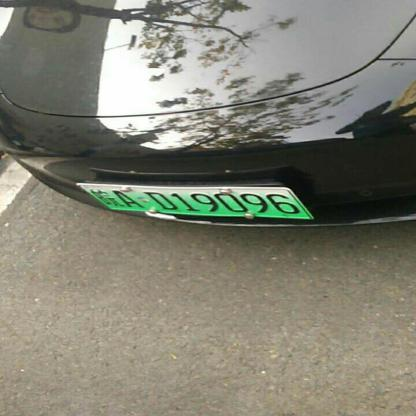lp: (79, 184, 311, 218)
